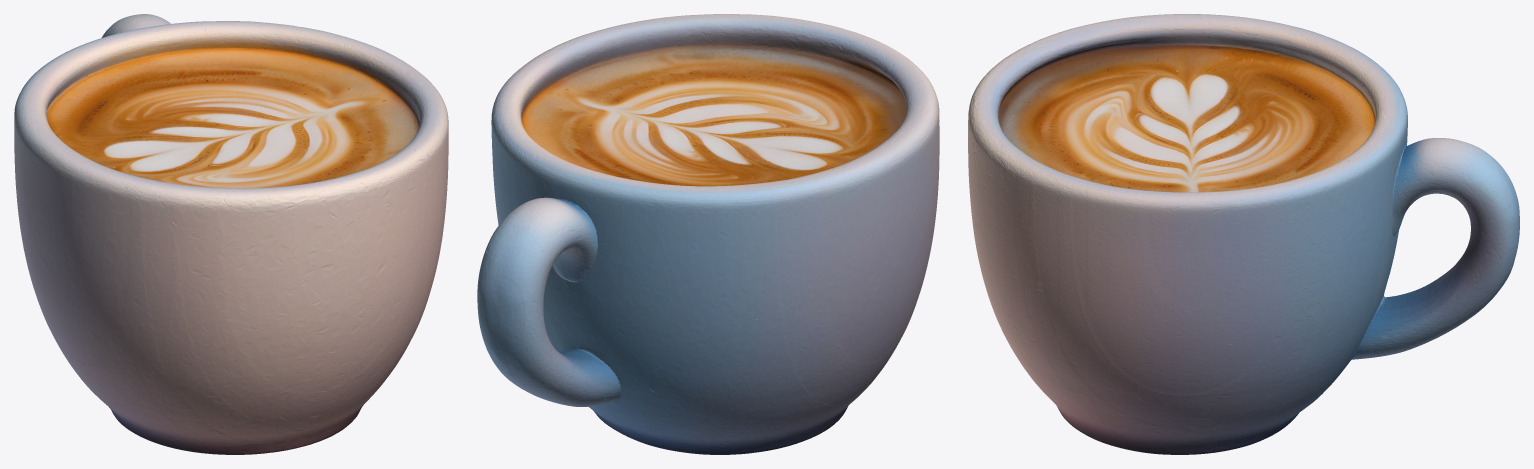
Rendered from latte.glb.
3 views of the same model, side by side, from view 1: azimuth 30°, elevation 25°; view 2: azimuth 150°, elevation 25°; view 3: azimuth 270°, elevation 25° (orthographic). The views are drawn at different scales.
Parts seen in each view (by area): view 1: tripo_node_3cbd95ab-9bd8-4467-a6c1-a6cde505cbde; view 2: tripo_node_3cbd95ab-9bd8-4467-a6c1-a6cde505cbde; view 3: tripo_node_3cbd95ab-9bd8-4467-a6c1-a6cde505cbde.
Boxes of the visible parts, box(x1,y1,x2,y2) form: tripo_node_3cbd95ab-9bd8-4467-a6c1-a6cde505cbde: box(14, 14, 448, 454); tripo_node_3cbd95ab-9bd8-4467-a6c1-a6cde505cbde: box(477, 14, 939, 454); tripo_node_3cbd95ab-9bd8-4467-a6c1-a6cde505cbde: box(968, 14, 1519, 454).
Size of the model in its own units: 0.7886 by 0.6032 by 1.
1 material, 1 textured.
